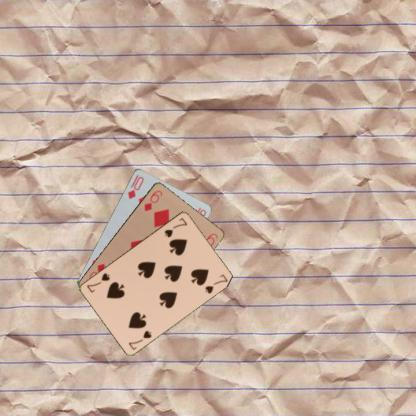10d: (125, 172, 145, 200)
6d: (141, 187, 164, 212)
7s: (162, 215, 188, 239), (126, 328, 153, 351)
